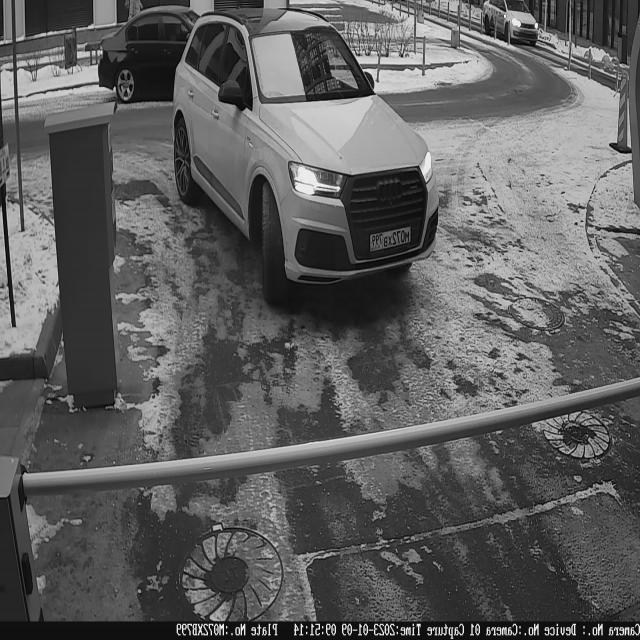car-plate-numbers: (368, 221, 419, 262)
